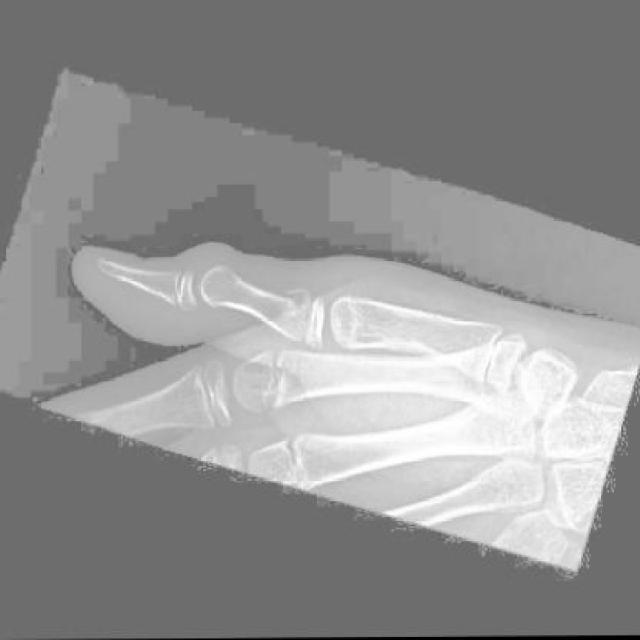Fracture: (271, 277, 327, 341)
